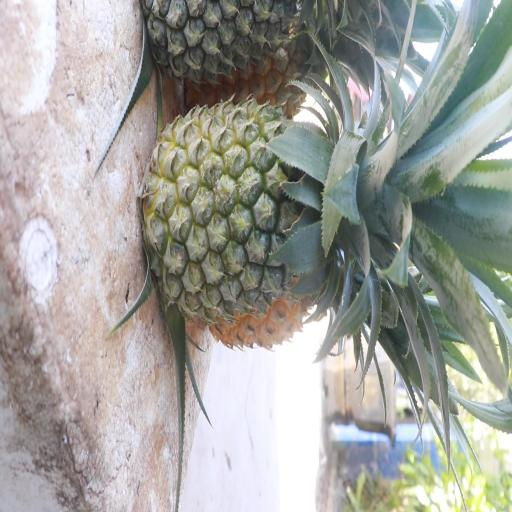------------------------------: (142, 89, 340, 316)
